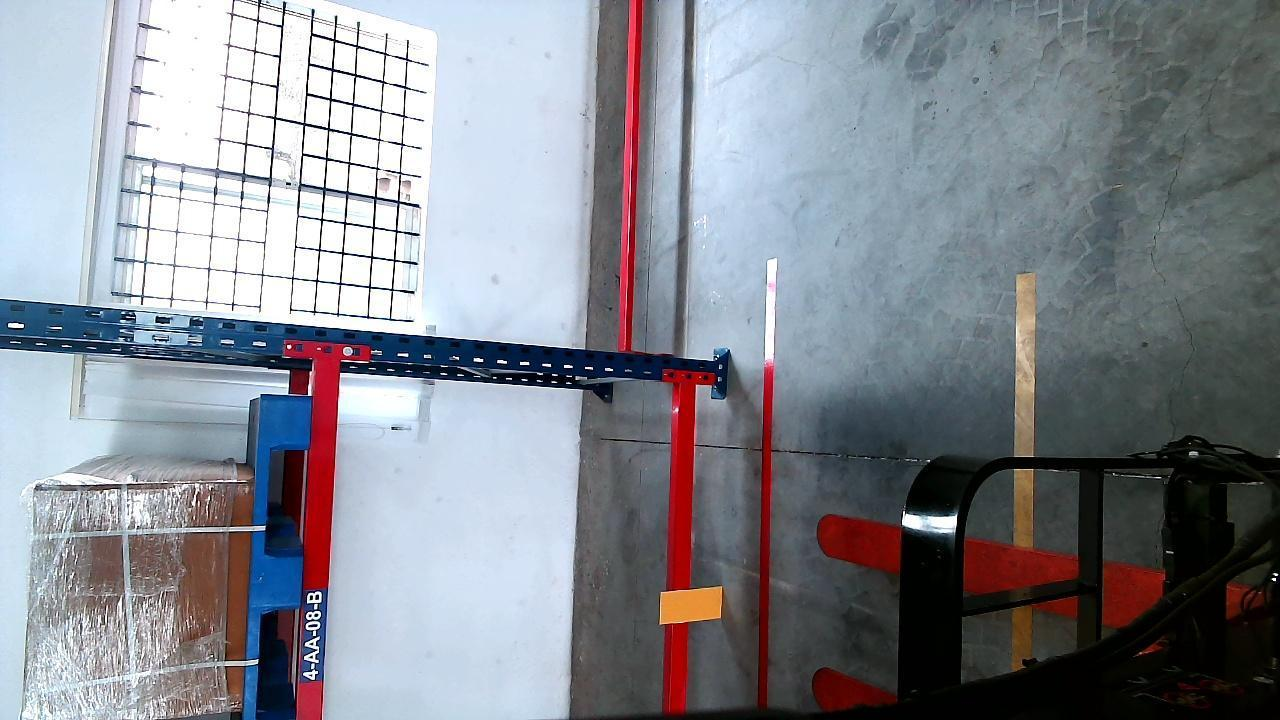h_rack: (300, 361, 340, 717), (669, 381, 699, 717)
orange_strip: (662, 586, 724, 623)
red_line: (756, 255, 783, 698)
small_pallet: (244, 397, 309, 719)
yellow_line: (1014, 259, 1037, 565)
